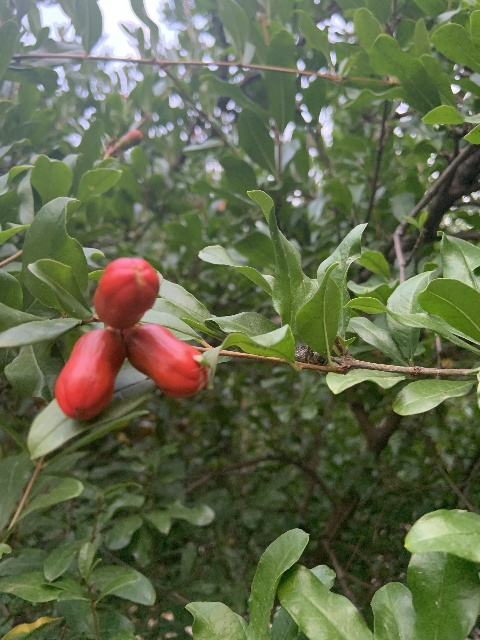bud: (55, 327, 126, 421), (126, 323, 207, 399), (93, 257, 160, 329), (119, 129, 142, 147)
